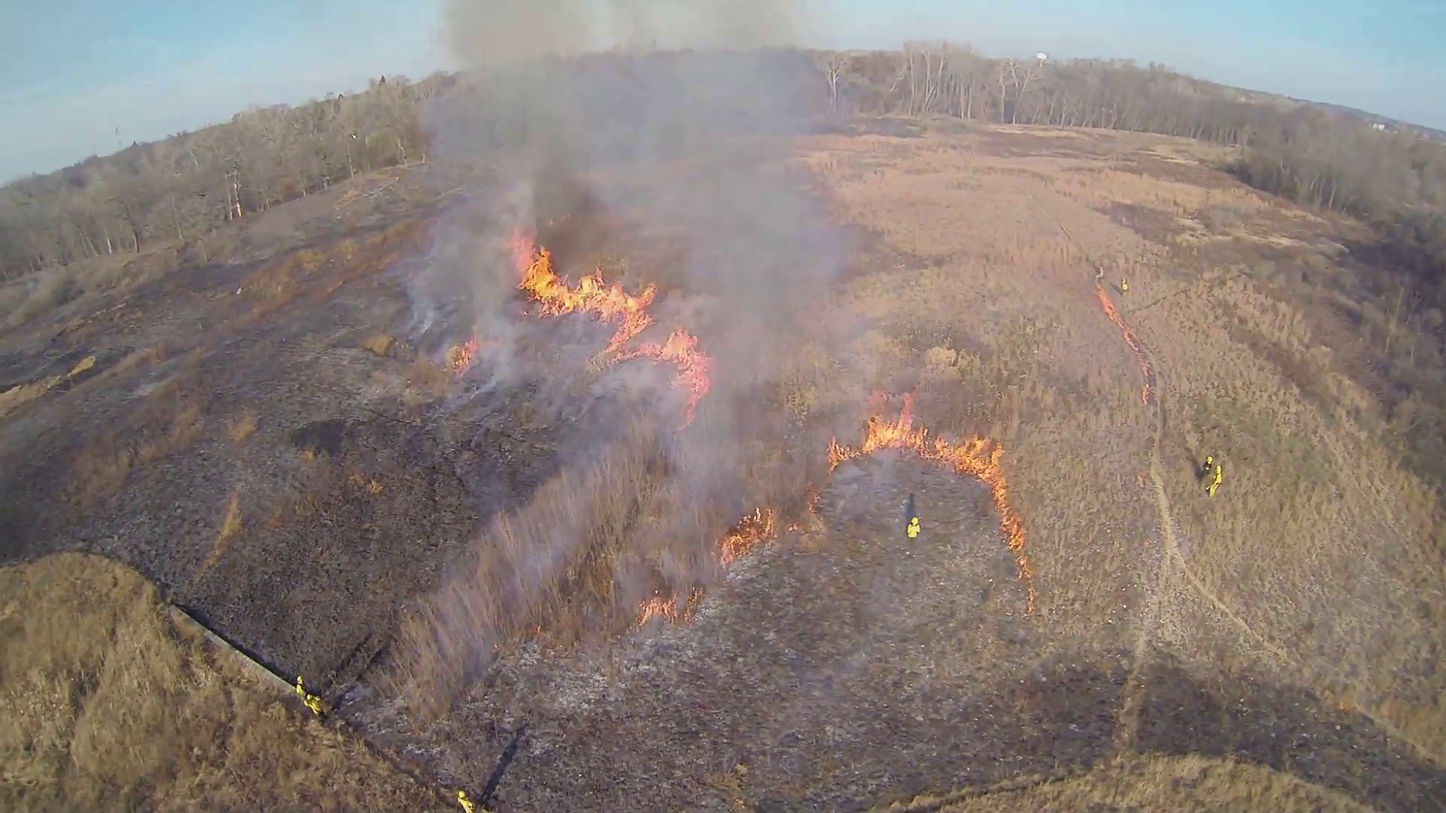forest_fire: (828, 395, 1036, 611), (512, 233, 712, 425), (1097, 291, 1156, 404), (721, 509, 775, 562)
